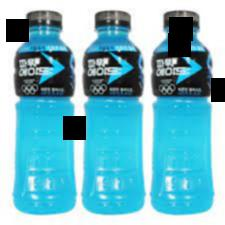powerade_mountainblast: (80, 9, 148, 216), (11, 9, 78, 215), (151, 10, 217, 217)
